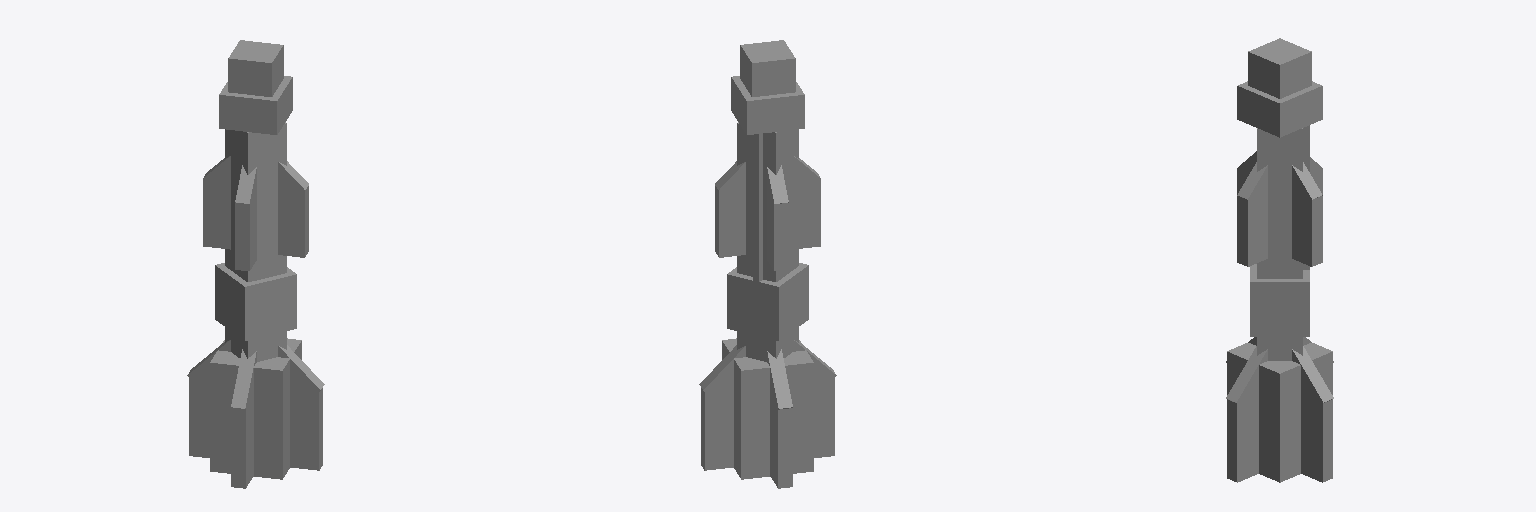
Rendered from missile_smoke.obj.
3 renders of one model, left to right at view 1: azimuth 30°, elevation 25°; view 2: azimuth 150°, elevation 25°; view 3: azimuth 270°, elevation 25°, orthographic.
Parts seen in each view (by area): view 1: MOTOR_MODULE, MAIN_MISSILE_MODULE, CHEMICAL_CONTROL_MODULE, WING_B_B_1, WING_T_A_2, CHEM_WARHEAD_1, CHEM_WARHEAD_2, WING_B_A_1, WING_T_A_1, WING_T_B_2, WING_B_B_2, WING_B_A_2 (+1 smaller); view 2: MOTOR_MODULE, MAIN_MISSILE_MODULE, CHEMICAL_CONTROL_MODULE, WING_B_A_1, WING_T_B_2, CHEM_WARHEAD_1, CHEM_WARHEAD_2, WING_B_B_1, WING_T_B_1, CHEMICAL_CONDUCT, WING_T_A_2, WING_B_A_2 (+2 smaller); view 3: MOTOR_MODULE, MAIN_MISSILE_MODULE, CHEMICAL_CONTROL_MODULE, CHEM_WARHEAD_1, CHEM_WARHEAD_2, WING_B_B_1, WING_B_A_1, WING_T_A_2, WING_T_B_2, WING_B_A_2, WING_B_B_2, WING_T_B_1 (+1 smaller).
Part boxes in pixels (bbox=[...]): MOTOR_MODULE: bbox=[210, 338, 301, 479]; MAIN_MISSILE_MODULE: bbox=[225, 122, 286, 361]; CHEMICAL_CONTROL_MODULE: bbox=[215, 263, 296, 340]; WING_B_B_1: bbox=[189, 374, 322, 470]; WING_T_A_2: bbox=[203, 179, 308, 257]; CHEM_WARHEAD_1: bbox=[219, 76, 292, 134]; CHEM_WARHEAD_2: bbox=[228, 40, 283, 96]; WING_B_A_1: bbox=[231, 395, 253, 488]; WING_T_A_1: bbox=[203, 156, 308, 212]; WING_T_B_2: bbox=[235, 193, 256, 270]; WING_B_B_2: bbox=[187, 340, 324, 391]; WING_B_A_2: bbox=[231, 349, 256, 409]; MOTOR_MODULE: bbox=[722, 338, 813, 479]; MAIN_MISSILE_MODULE: bbox=[737, 122, 798, 361]; CHEMICAL_CONTROL_MODULE: bbox=[727, 263, 808, 340]; WING_B_A_1: bbox=[701, 374, 834, 470]; WING_T_B_2: bbox=[715, 178, 820, 257]; CHEM_WARHEAD_1: bbox=[731, 76, 804, 134]; CHEM_WARHEAD_2: bbox=[740, 40, 795, 96]; WING_B_B_1: bbox=[770, 395, 792, 488]; WING_T_B_1: bbox=[715, 156, 820, 212]; CHEMICAL_CONDUCT: bbox=[753, 134, 762, 281]; WING_T_A_2: bbox=[767, 193, 788, 270]; WING_B_A_2: bbox=[699, 340, 836, 391]; MOTOR_MODULE: bbox=[1227, 343, 1332, 482]; MAIN_MISSILE_MODULE: bbox=[1257, 128, 1302, 360]; CHEMICAL_CONTROL_MODULE: bbox=[1250, 264, 1309, 336]; CHEM_WARHEAD_1: bbox=[1237, 81, 1322, 137]; CHEM_WARHEAD_2: bbox=[1248, 38, 1311, 98]; WING_B_B_1: bbox=[1227, 392, 1258, 482]; WING_B_A_1: bbox=[1301, 392, 1332, 482]; WING_T_A_2: bbox=[1237, 168, 1322, 266]; WING_T_B_2: bbox=[1237, 169, 1322, 266]; WING_B_A_2: bbox=[1226, 337, 1333, 402]; WING_B_B_2: bbox=[1226, 337, 1333, 402]; WING_T_B_1: bbox=[1237, 151, 1322, 199].
Bounding box in the file's own units: 0.9009 × 3.75 × 0.9009.